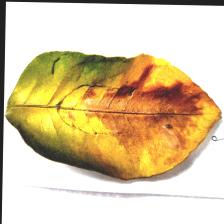black spot: (68, 64, 200, 146)
